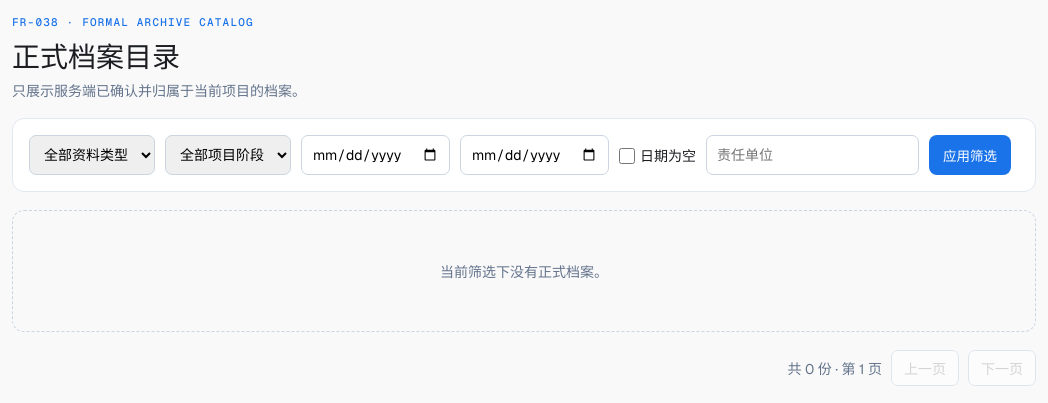
ArchiveCatalogPanel › clears and disables date range when date-empty filtering is selected
Type "2026-01-01" into the date field with test id "archive-date-from". click: (376, 155)
box: [301,135,450,175]
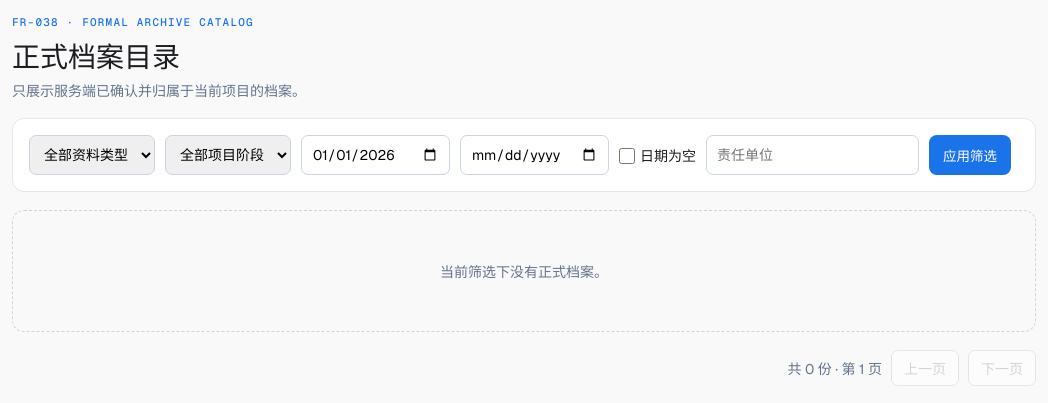
Type "2026-12-31" into the date field with test id "archive-date-to". click: (534, 155)
box: [460,135,609,175]
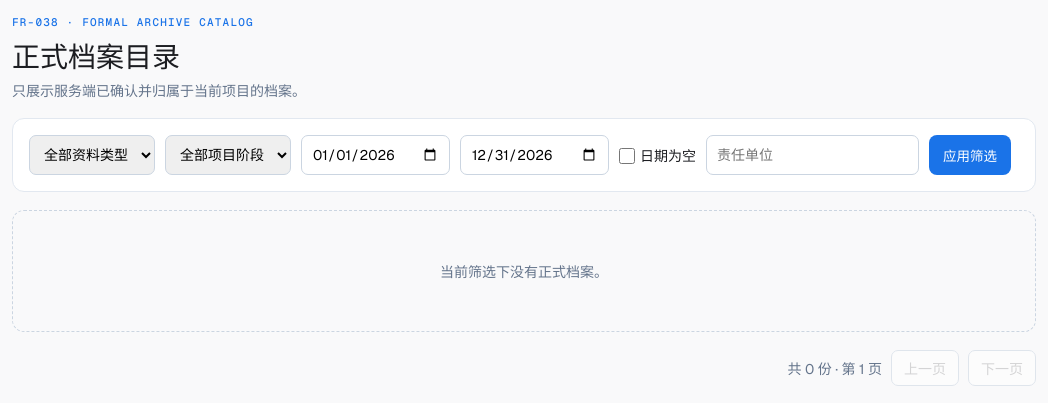
Click the checkbox with test id "archive-date-null-filter". click: (627, 156)
box: [619,137,635,175]
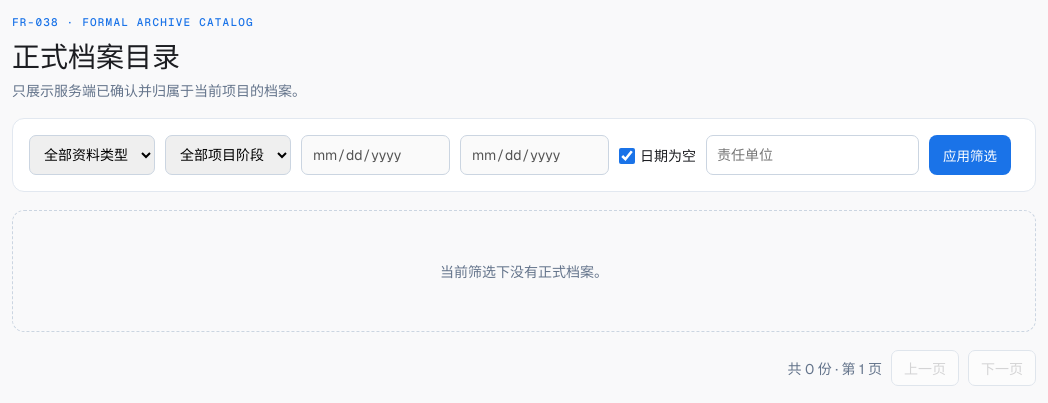
Expected: the date field with test id "archive-date-from" is empty, [301,135,450,175]
Expected: the date field with test id "archive-date-to" is empty, [460,135,609,175]
Expected: the date field with test id "archive-date-from" is disabled, [301,135,450,175]
